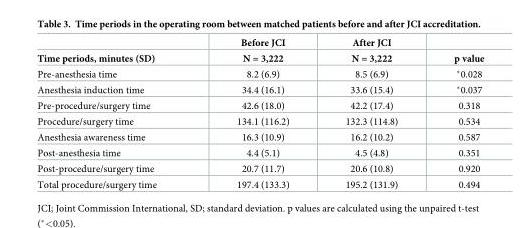table: (36, 37, 483, 189)
table column: (36, 37, 196, 189), (196, 37, 316, 189), (316, 37, 425, 189), (425, 37, 483, 189)
table column header: (36, 37, 483, 65)
table row: (36, 65, 483, 81), (36, 81, 483, 97), (36, 97, 483, 113), (36, 113, 483, 129), (36, 144, 483, 160), (36, 160, 483, 176), (36, 50, 483, 65), (36, 129, 483, 144), (36, 37, 483, 50), (36, 176, 483, 189)
table spanning cell: (36, 37, 196, 65), (196, 37, 316, 65), (316, 37, 425, 65), (425, 37, 483, 65)
